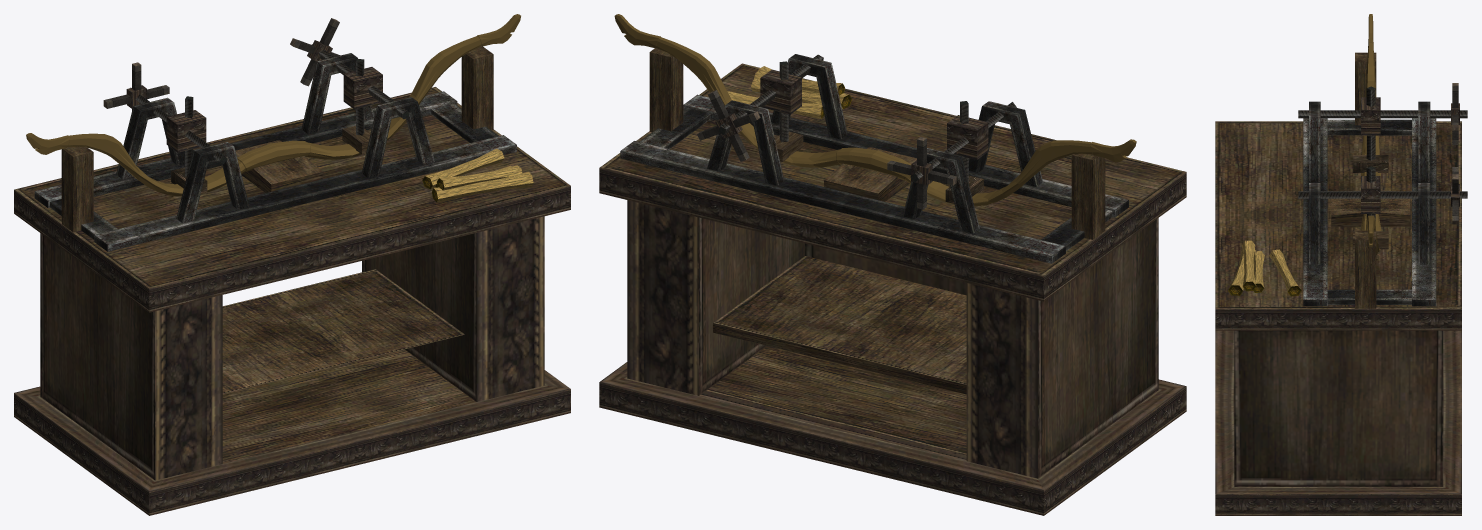
Rendered from luki.glb.
3 views of the same model, side by side, from view 1: azimuth 30°, elevation 25°; view 2: azimuth 150°, elevation 25°; view 3: azimuth 270°, elevation 25° (orthographic). The views are drawn at different scales.
Visible parts, largest first — view 1: zm_Frill, zm_Frill1, zm_Frill4; view 2: zm_Frill, zm_Frill1, zm_Frill4; view 3: zm_Frill, zm_Frill4, zm_Frill1, zm_Frill2, zm_Frill3.
Part boxes in pixels (x1,y1,x2,y2): zm_Frill: (14,18,570,515); zm_Frill1: (26,14,520,196); zm_Frill4: (103,62,227,163); zm_Frill: (599,48,1186,515); zm_Frill1: (614,14,1136,206); zm_Frill4: (887,102,1016,209); zm_Frill: (1215,52,1467,515); zm_Frill4: (1298,83,1467,144); zm_Frill1: (1360,14,1381,254); zm_Frill2: (1353,155,1388,172); zm_Frill3: (1366,86,1375,160).
Bounding box in the file's own units: 2.15 × 1.36 × 1.04.
5 materials, 5 textured.
